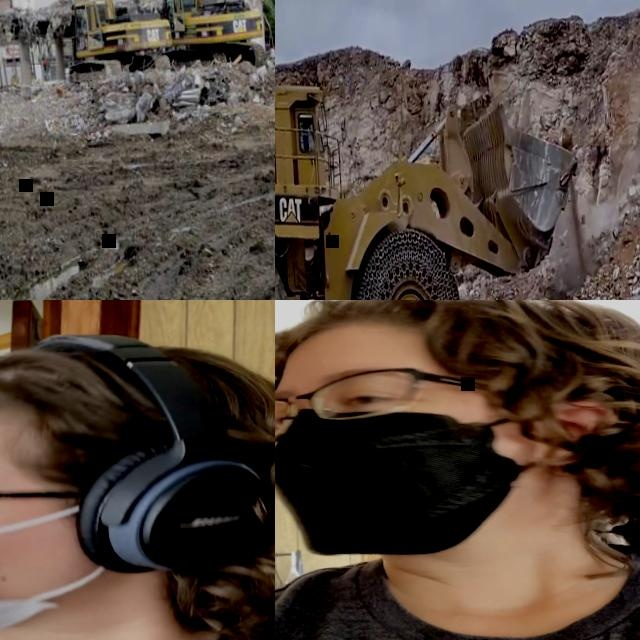Mask: (275, 391, 560, 563), (0, 488, 106, 640)
NO-Hardhat: (0, 317, 275, 485), (275, 300, 640, 390)
NO-Safety Vest: (275, 536, 640, 640)
Person: (275, 300, 640, 640), (0, 313, 275, 640), (299, 126, 305, 153)
machinery: (275, 50, 591, 300), (47, 0, 268, 76), (3, 0, 173, 86)
